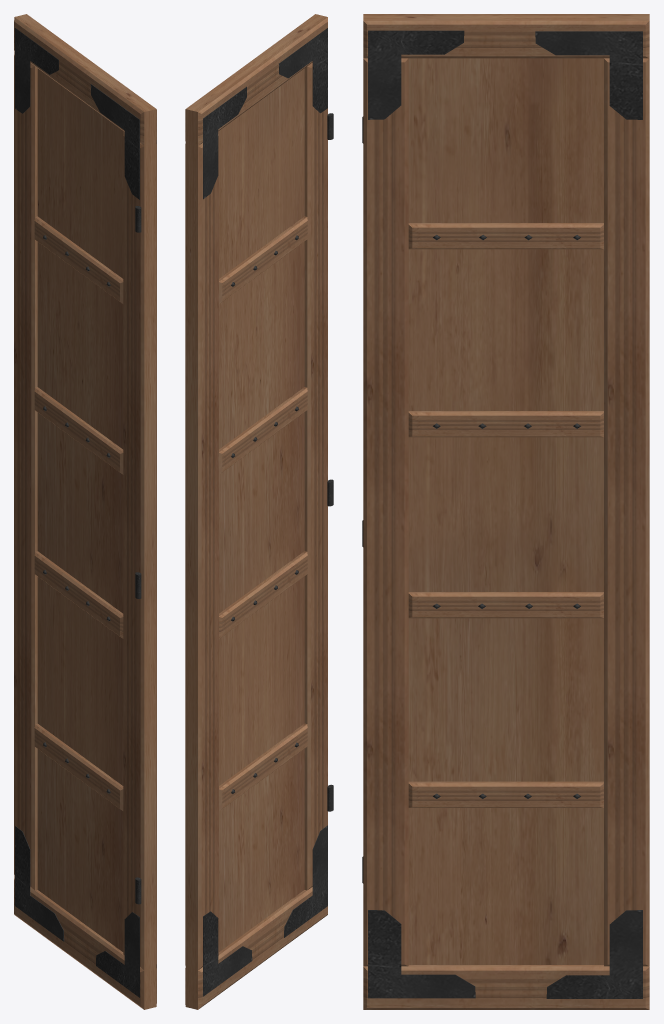
File: SM_JSH_DoorA.fbx
3 renders of one model, left to right at view 1: azimuth 30°, elevation 25°; view 2: azimuth 150°, elevation 25°; view 3: azimuth 270°, elevation 25°, orthographic. The views are drawn at different scales.
Visible parts, largest first — view 1: SM_JSH_DoorA; view 2: SM_JSH_DoorA; view 3: SM_JSH_DoorA.
Boxes of the visible parts, x1,y1,x2,y2 form: SM_JSH_DoorA: [14, 14, 156, 1009]; SM_JSH_DoorA: [185, 14, 333, 1009]; SM_JSH_DoorA: [362, 14, 649, 1009].
Bounding box in the file's own units: 5.93 × 57.14 × 217.
1 material, 1 textured.
